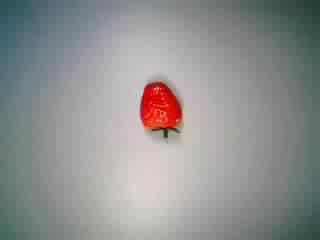strawberry: (125, 77, 191, 139)
